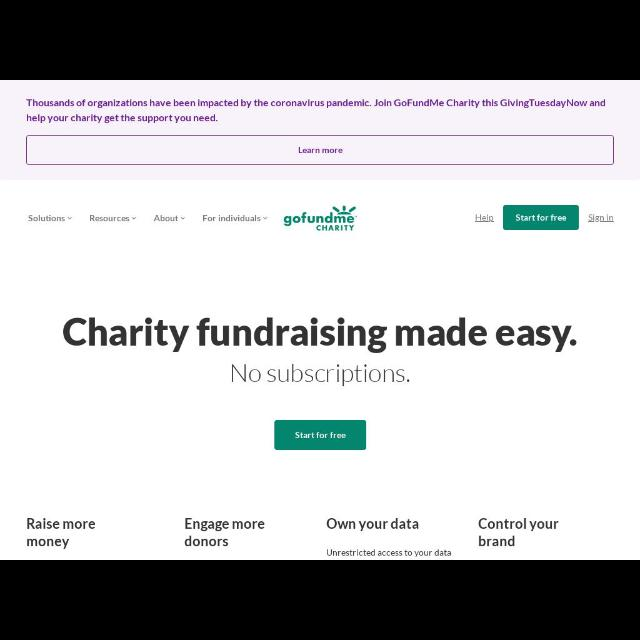icon: (262, 215, 268, 221), (180, 215, 186, 221), (131, 216, 137, 222), (67, 216, 73, 220)
image: (284, 204, 358, 232)
spinner: (202, 216, 270, 224), (26, 214, 74, 223), (89, 215, 137, 223), (152, 214, 185, 223)
text: (64, 317, 578, 353), (26, 98, 606, 124), (230, 364, 410, 388), (184, 519, 266, 549), (477, 518, 559, 548), (26, 518, 96, 550), (326, 518, 418, 534), (326, 550, 452, 558), (201, 214, 261, 223), (295, 432, 347, 441), (297, 146, 343, 156), (515, 215, 567, 223), (27, 215, 65, 223), (89, 215, 129, 222), (587, 214, 615, 222), (154, 215, 178, 223), (474, 215, 494, 223)
textbutton: (26, 135, 614, 165), (274, 421, 366, 451), (504, 206, 578, 230)
